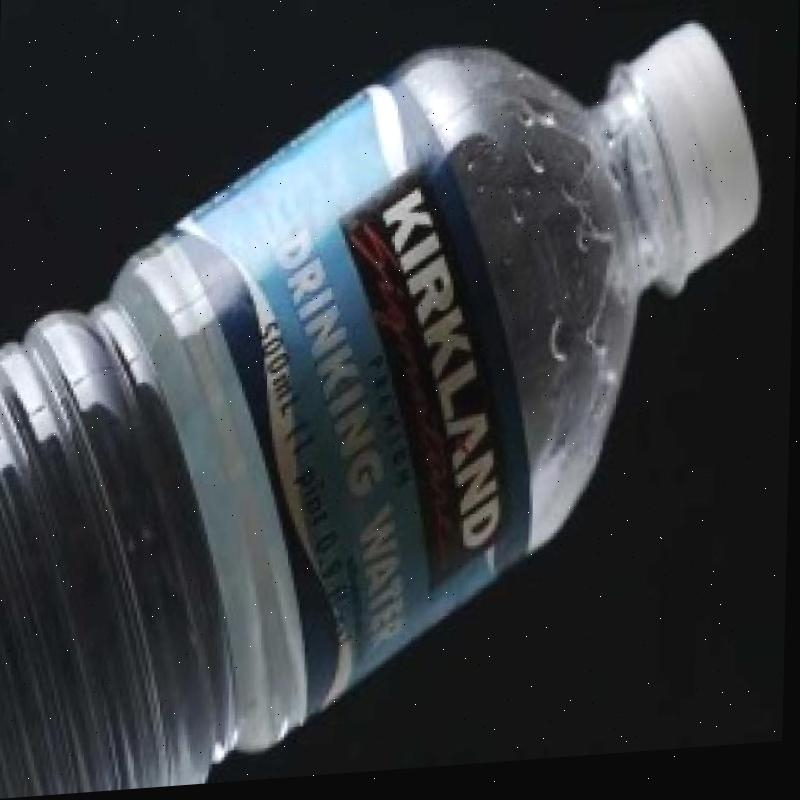botella: (0, 30, 765, 800)
